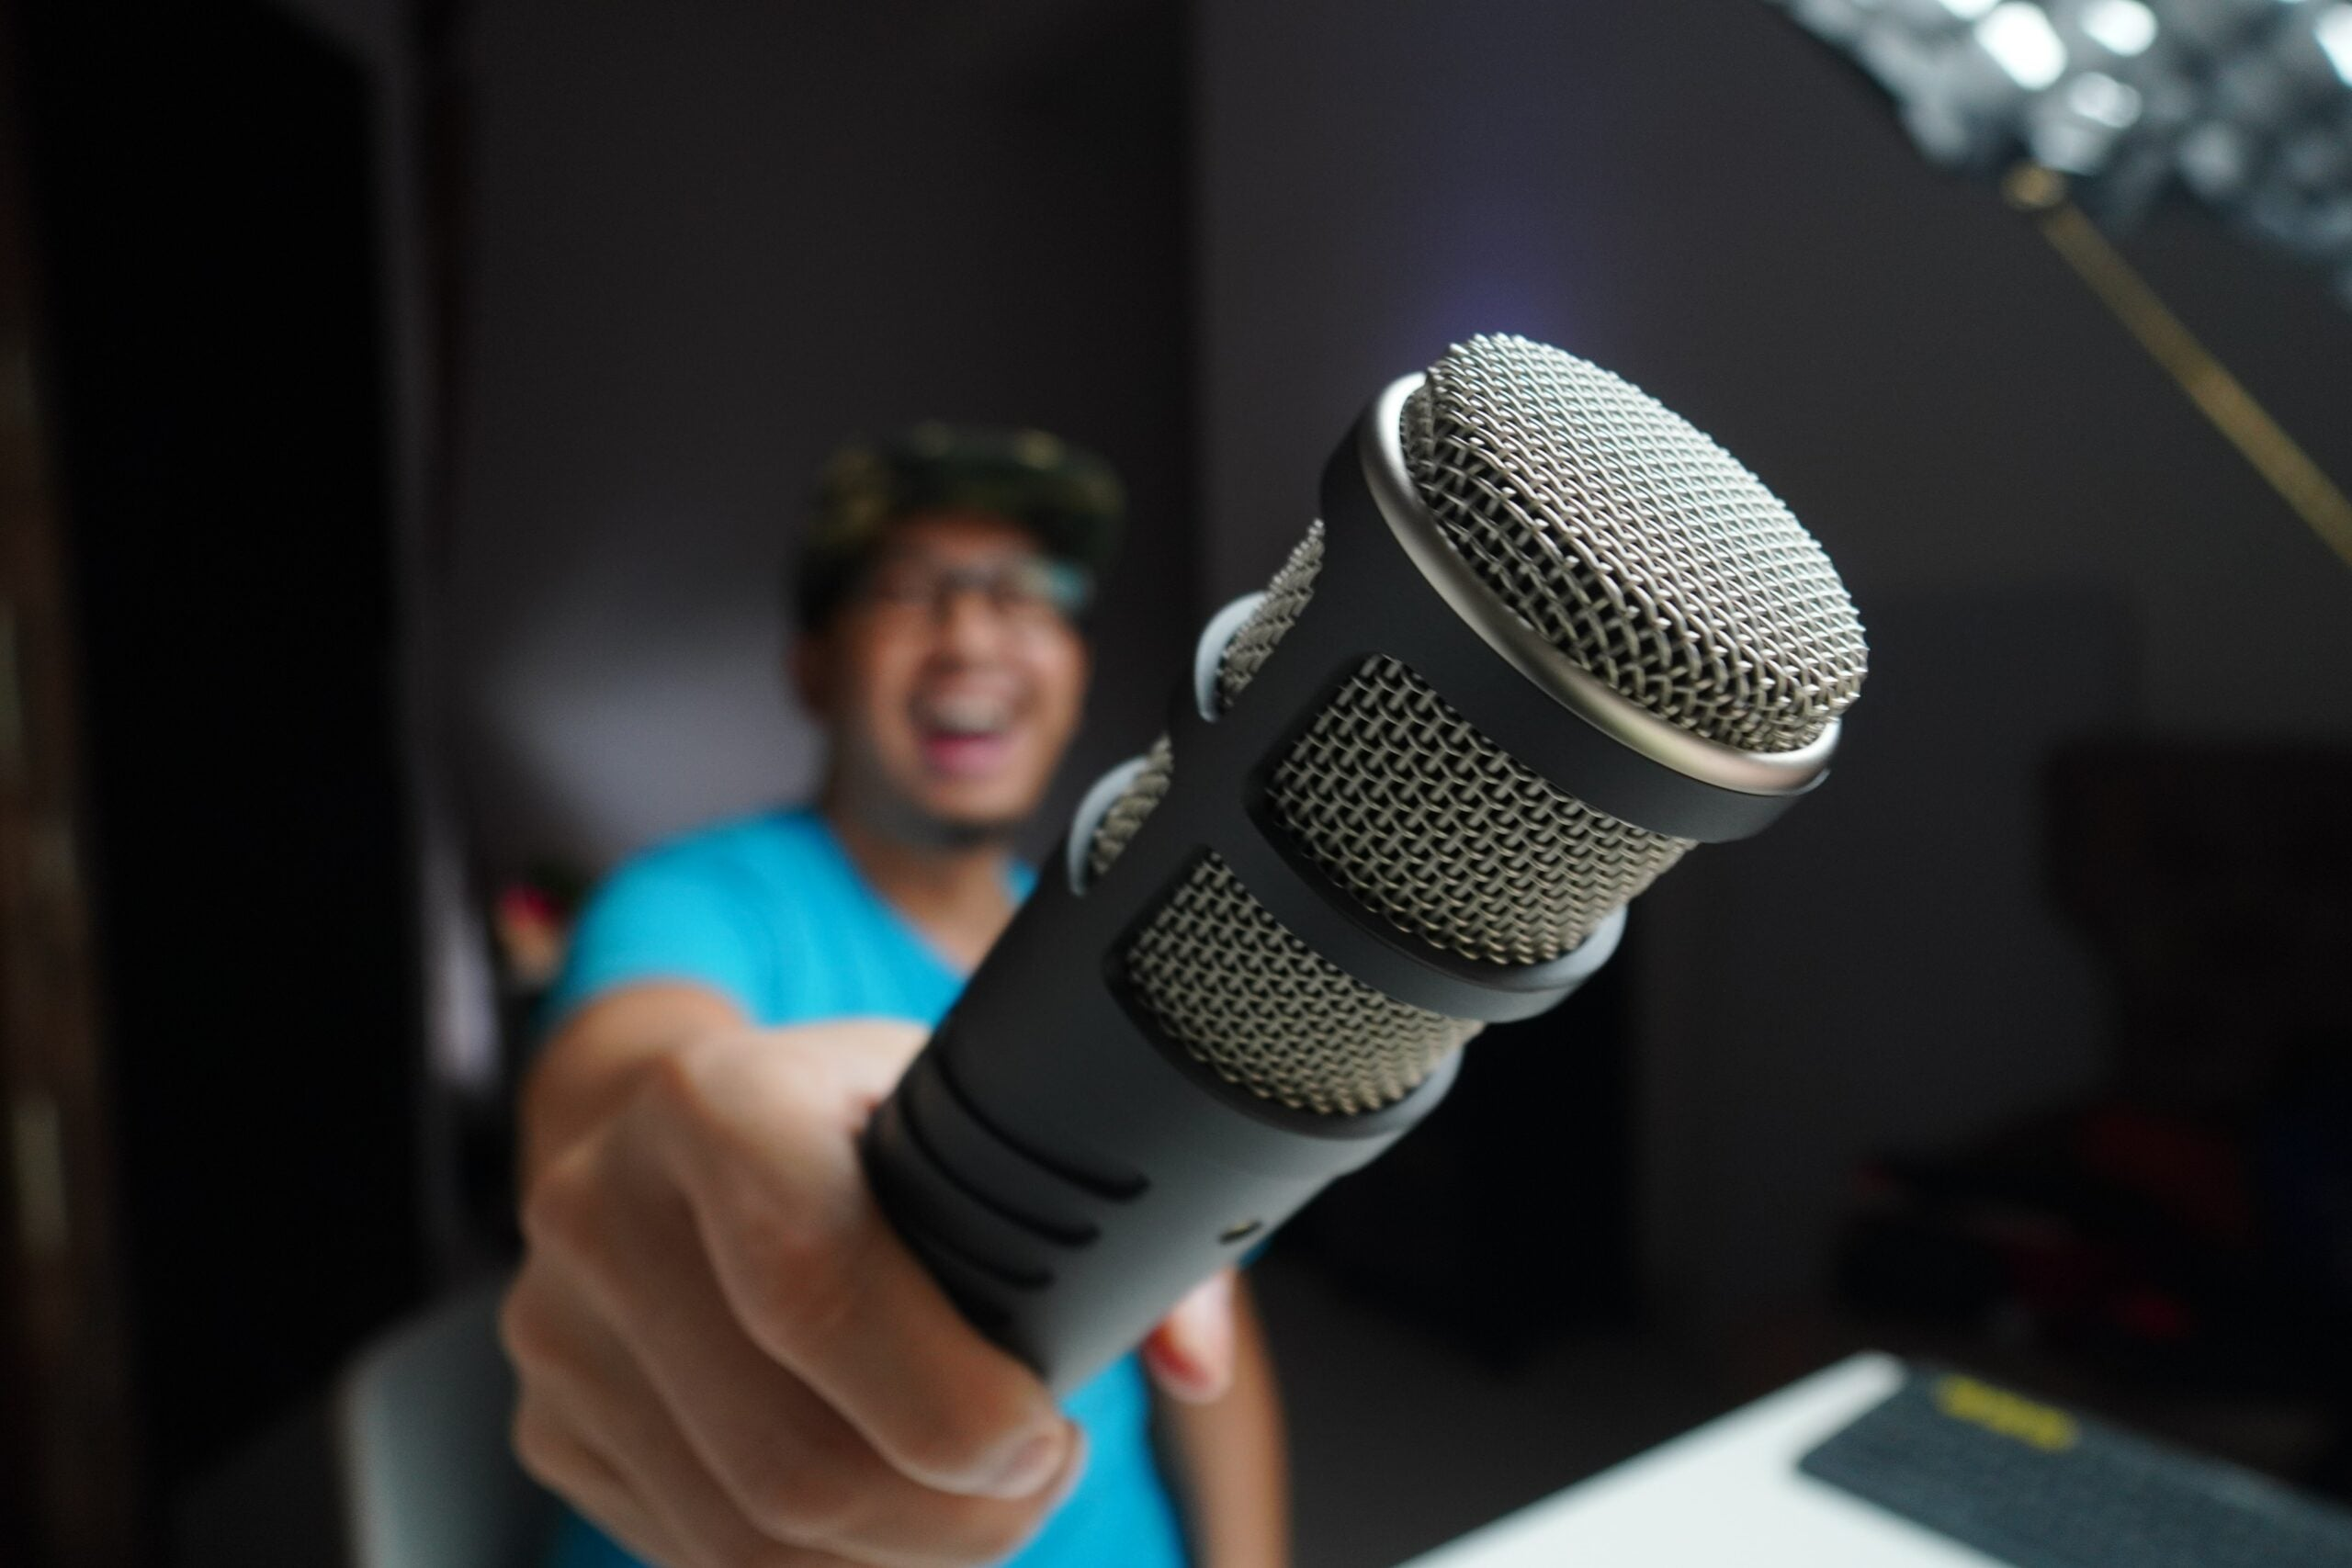microphone: (863, 324, 1874, 1411)
